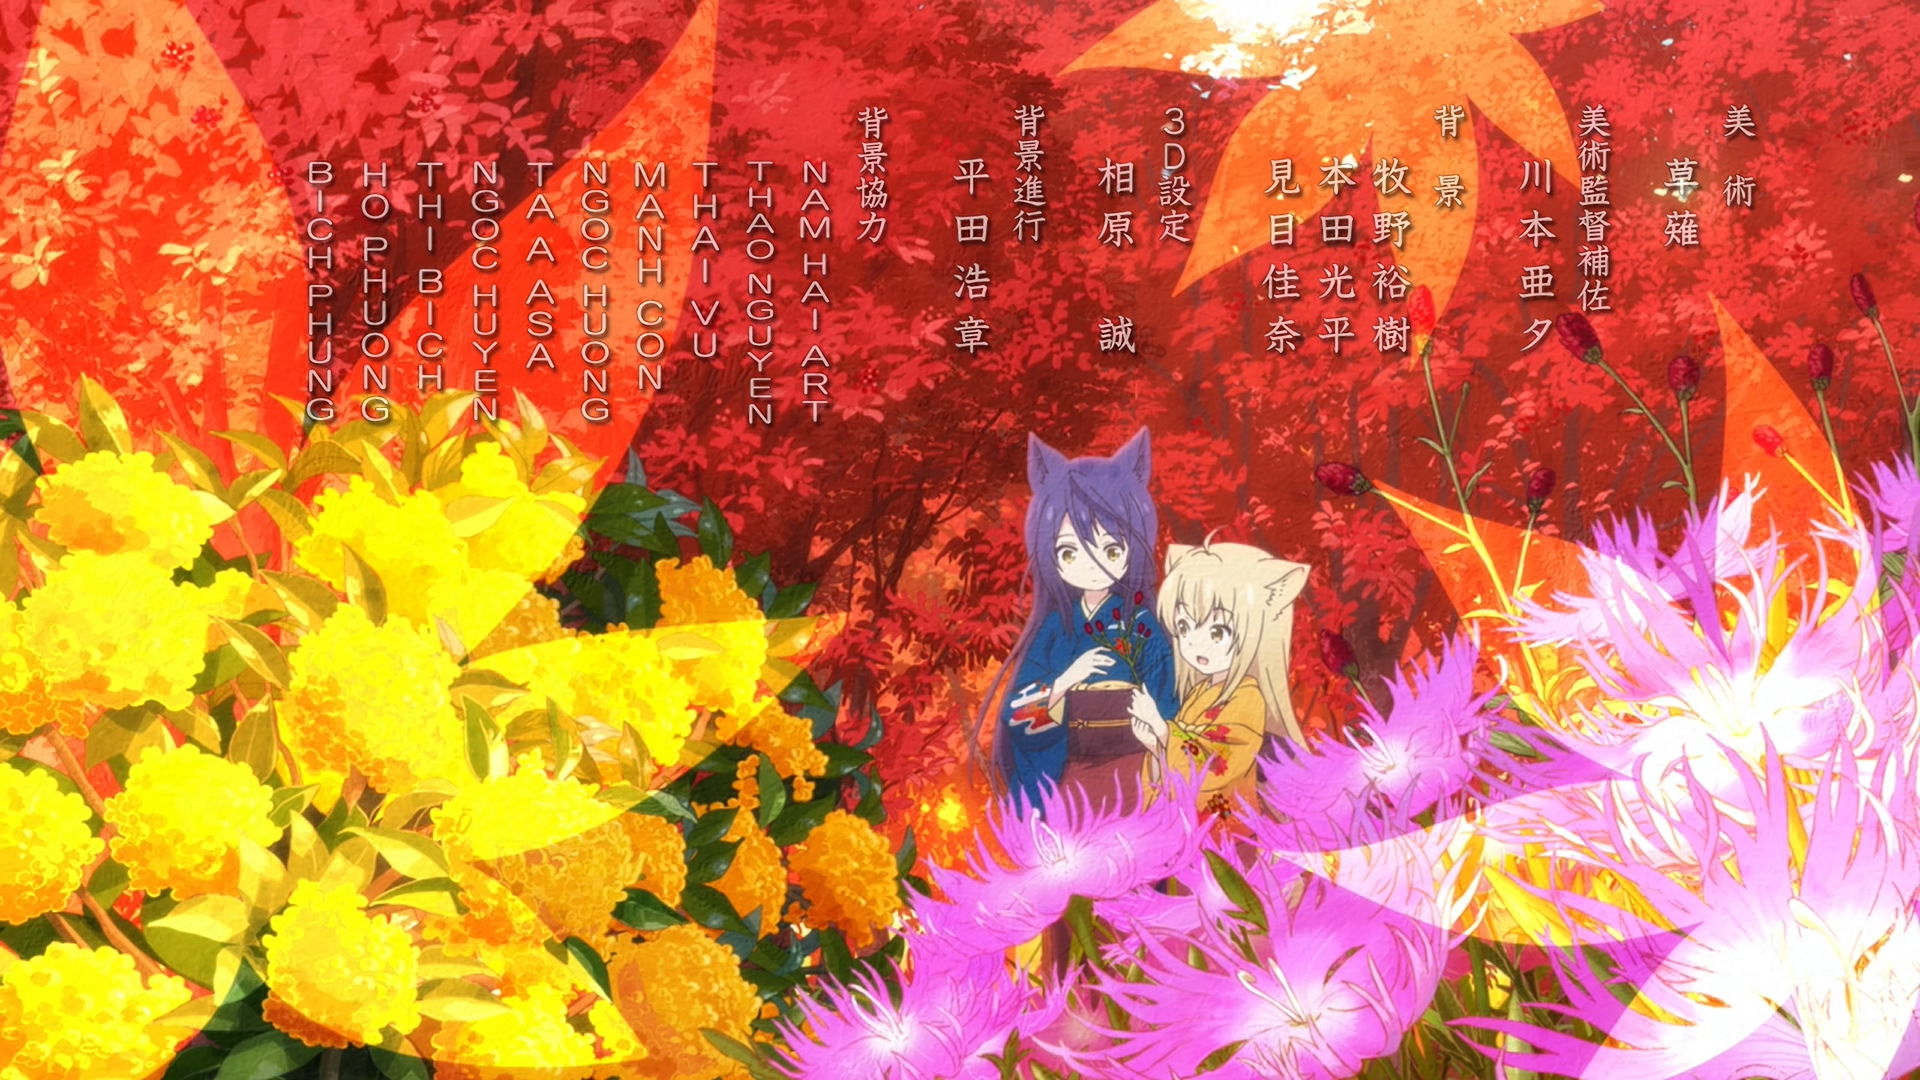柚: (1131, 531, 1316, 872)
皋: (968, 426, 1182, 833)
